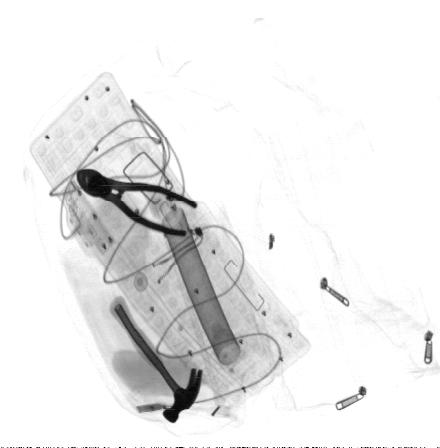Hammer: (108, 294, 203, 425)
Pliers: (76, 168, 198, 237)
